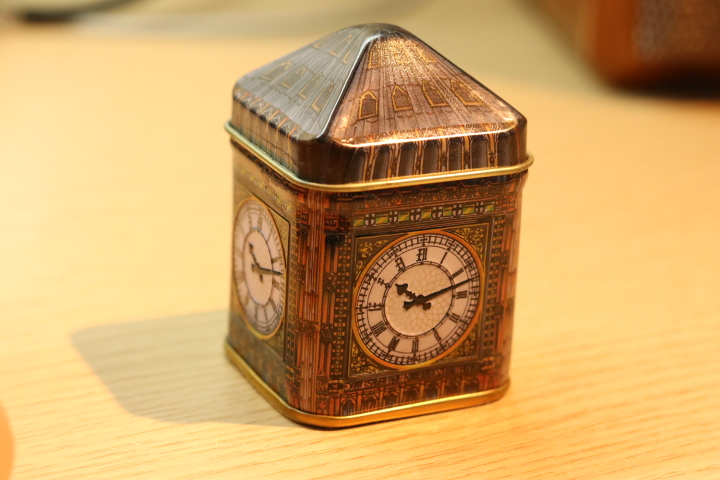Big Ben: (217, 14, 550, 438)
